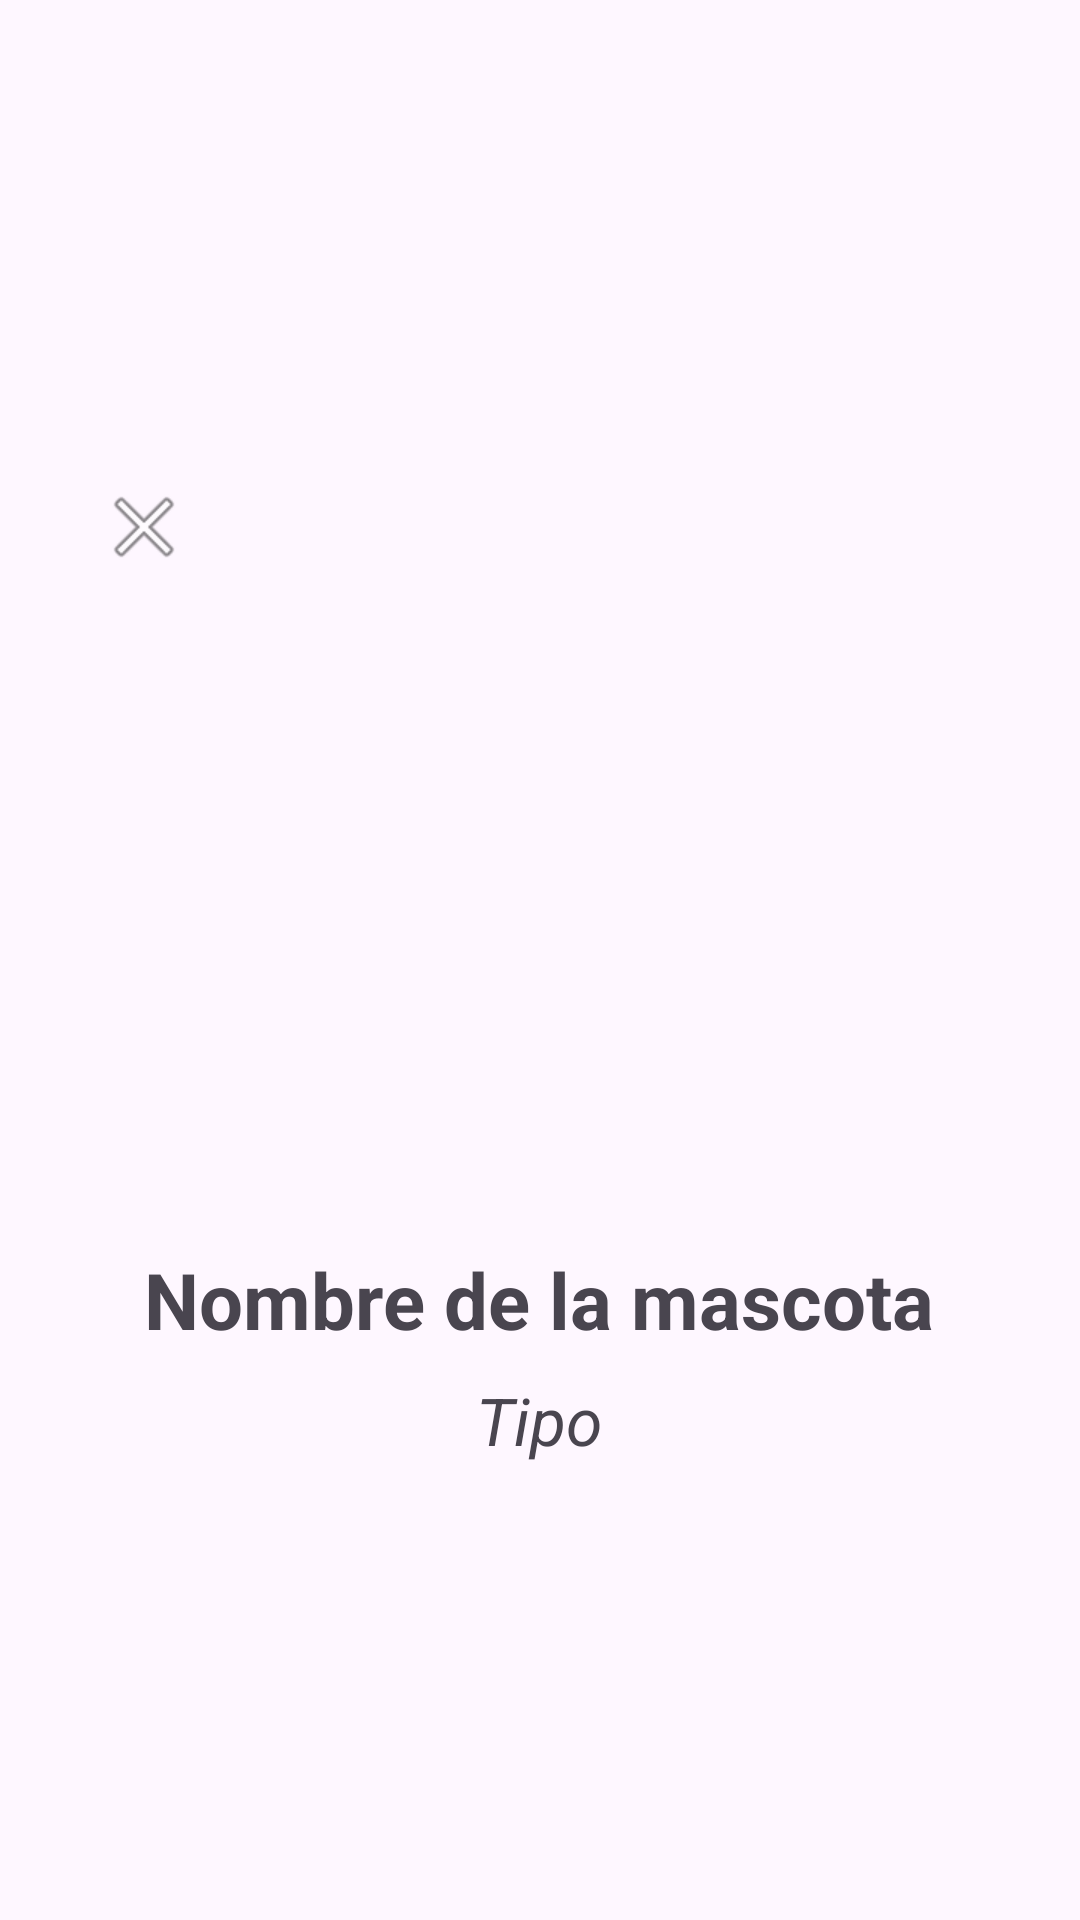

Named icons in this screenshot (1080*1920) and their centers, (x,y):
Cerrar pantalla: (144,527)
